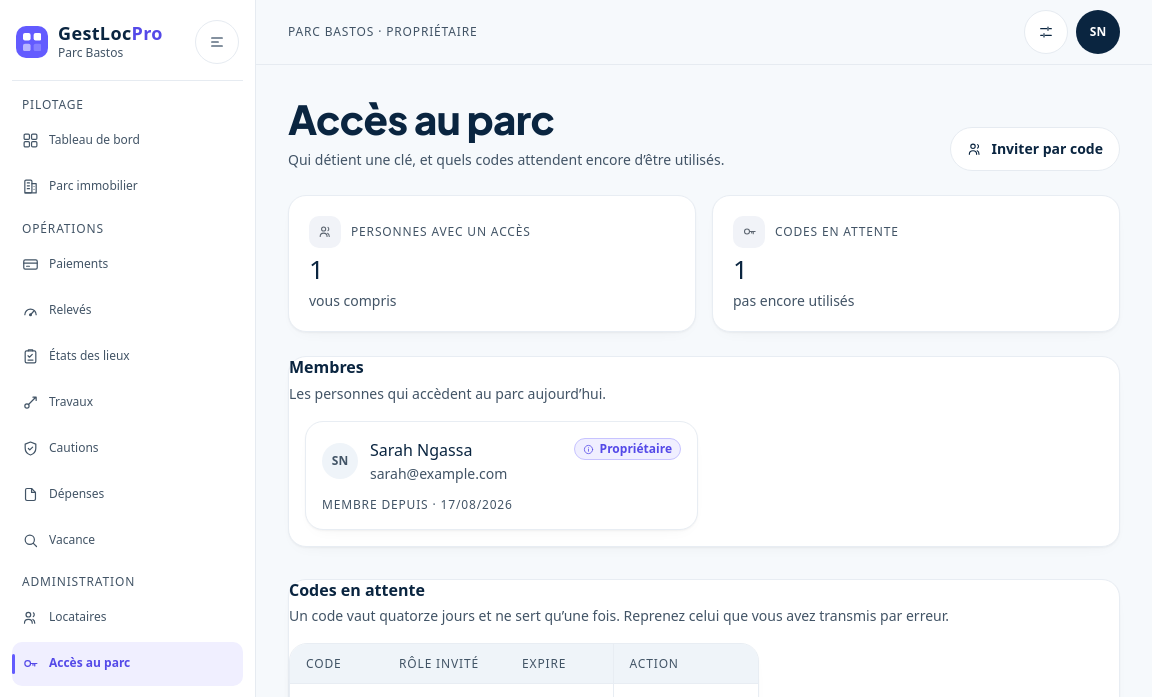
it: un seul code vivant par logement › retire du menu le logement dont le code attend encore
Click the button "Inviter par code".
click(1035, 149)  # box x1=950 y1=127 x2=1120 y2=171
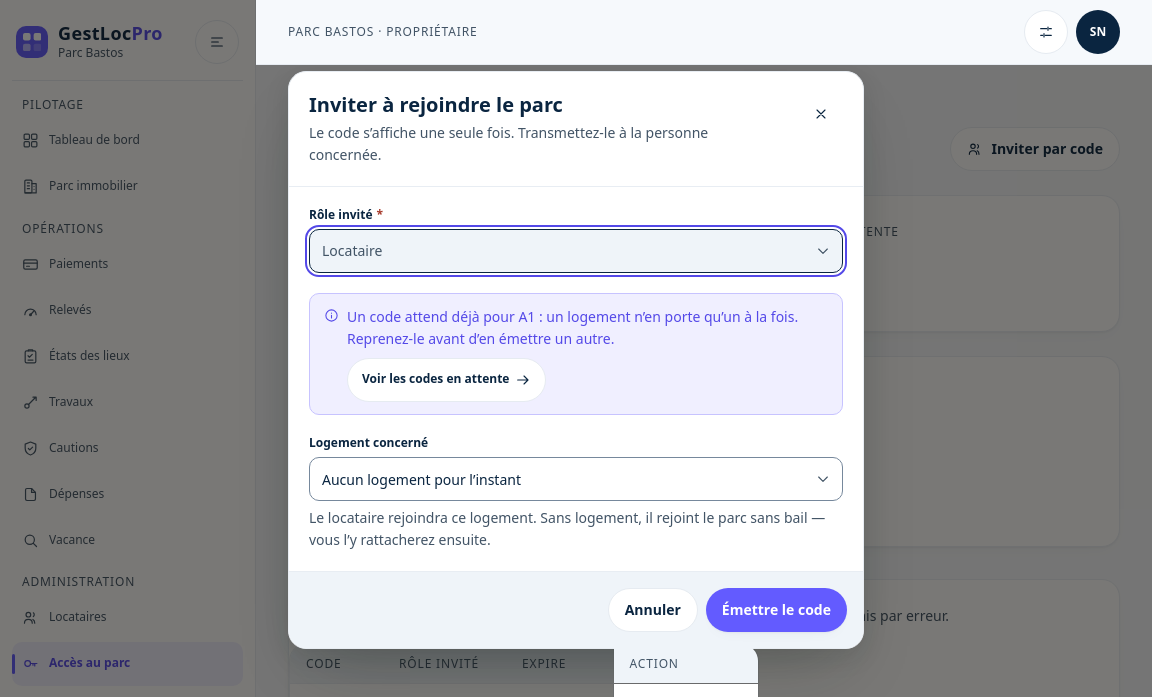
Expected: the dialog is shown, x1=288 y1=71 x2=864 y2=649
Click the dropdown labelled "Logement concerné".
click(576, 480)  # box x1=309 y1=458 x2=843 y2=502
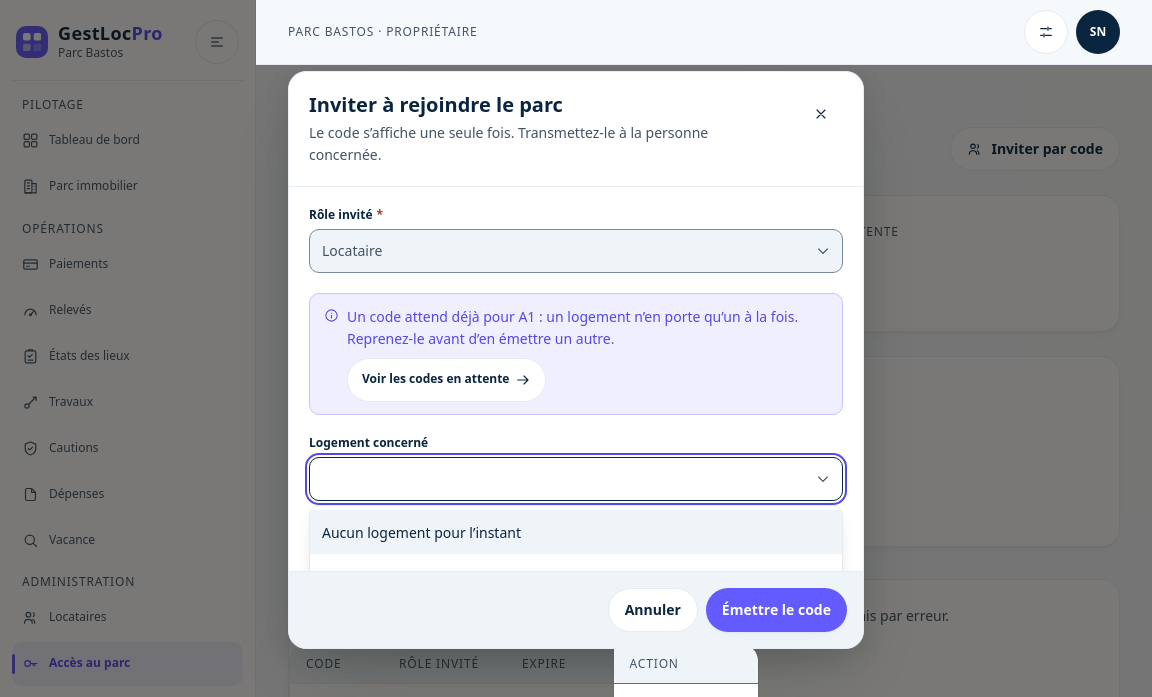
Expected: the option "Aucun logement pour l’instant" is shown, x1=310 y1=510 x2=842 y2=554
